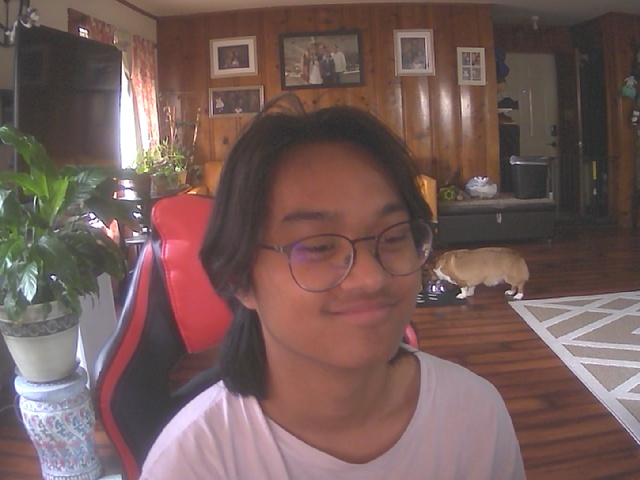happy: (225, 122, 445, 371)
